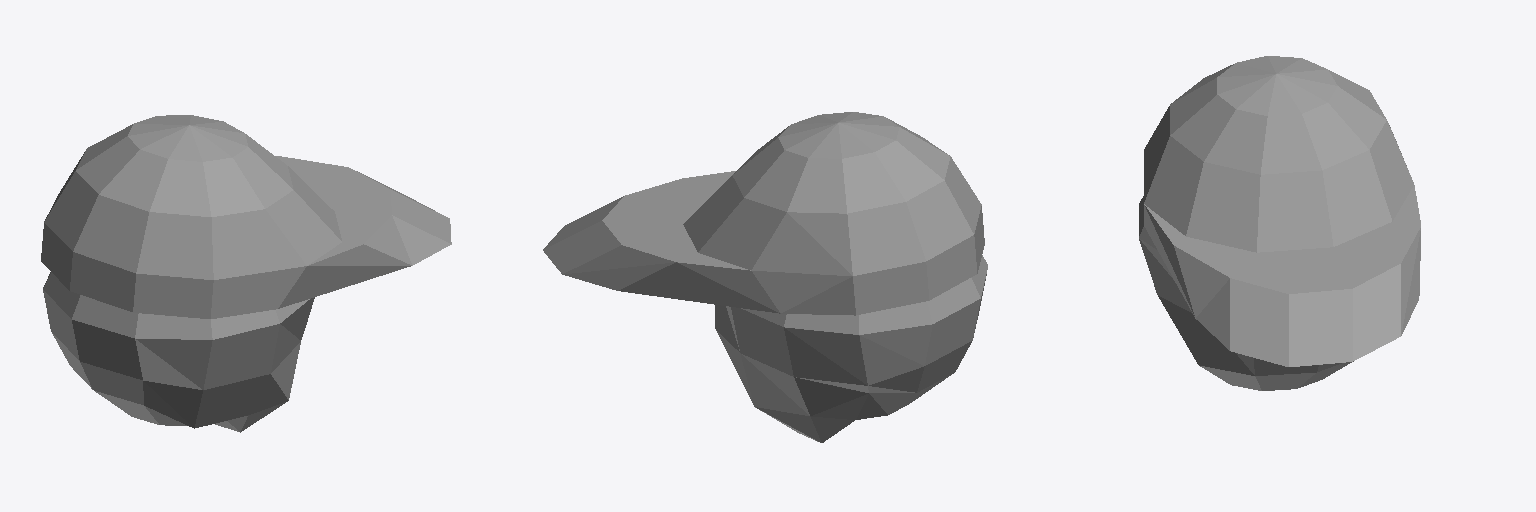
Rendered from head.obj.
3 views of the same model, side by side, from view 1: azimuth 30°, elevation 25°; view 2: azimuth 150°, elevation 25°; view 3: azimuth 270°, elevation 25° (orthographic).
Parts seen in each view (by area): view 1: Cube_Cube.001; view 2: Cube_Cube.001; view 3: Cube_Cube.001.
Part boxes in pixels (x1,y1,x2,y2): Cube_Cube.001: (41,115,451,432); Cube_Cube.001: (543,112,987,442); Cube_Cube.001: (1139,56,1420,390).
Bounding box in the file's own units: 0.2652 × 0.1897 × 0.1635.